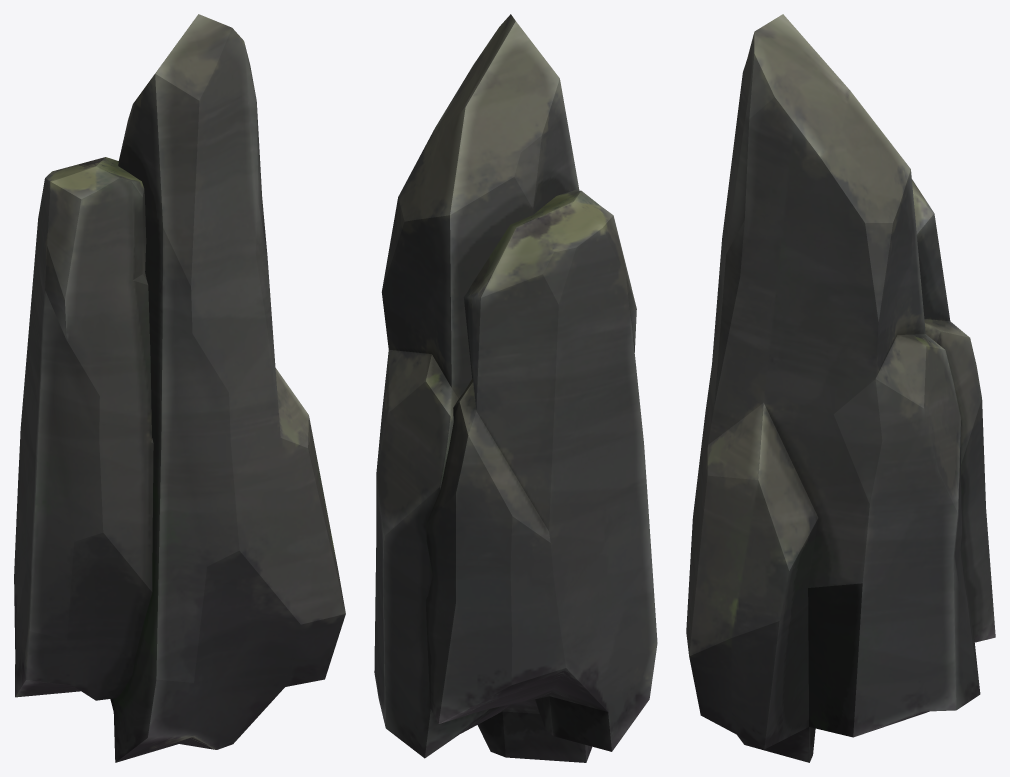
The model's file is Rock_4.glb.
3 renders of one model, left to right at view 1: azimuth 30°, elevation 25°; view 2: azimuth 150°, elevation 25°; view 3: azimuth 270°, elevation 25°, orthographic. The views are drawn at different scales.
Parts seen in each view (by area): view 1: Rock_4; view 2: Rock_4; view 3: Rock_4.
Part boxes in pixels (x1,y1,x2,y2): Rock_4: [14, 14, 345, 762]; Rock_4: [374, 14, 657, 762]; Rock_4: [686, 14, 995, 762].
Size of the model in its own units: 0.8592 by 2.15 by 0.8124.
1 material, 1 textured.
